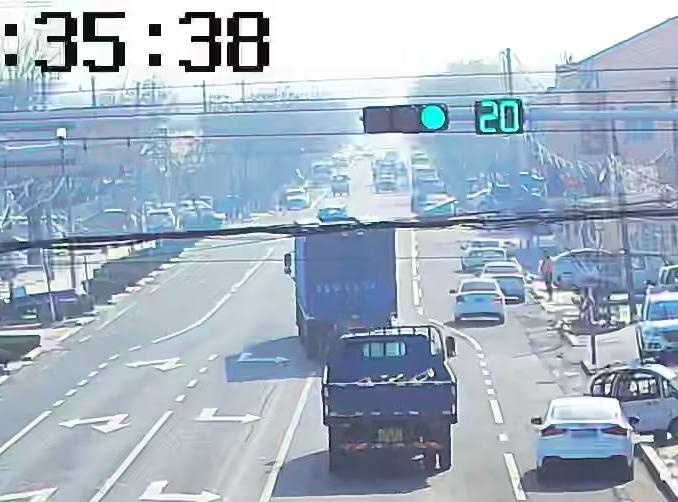green: (418, 105, 448, 130)
greentime: (477, 99, 524, 134)
